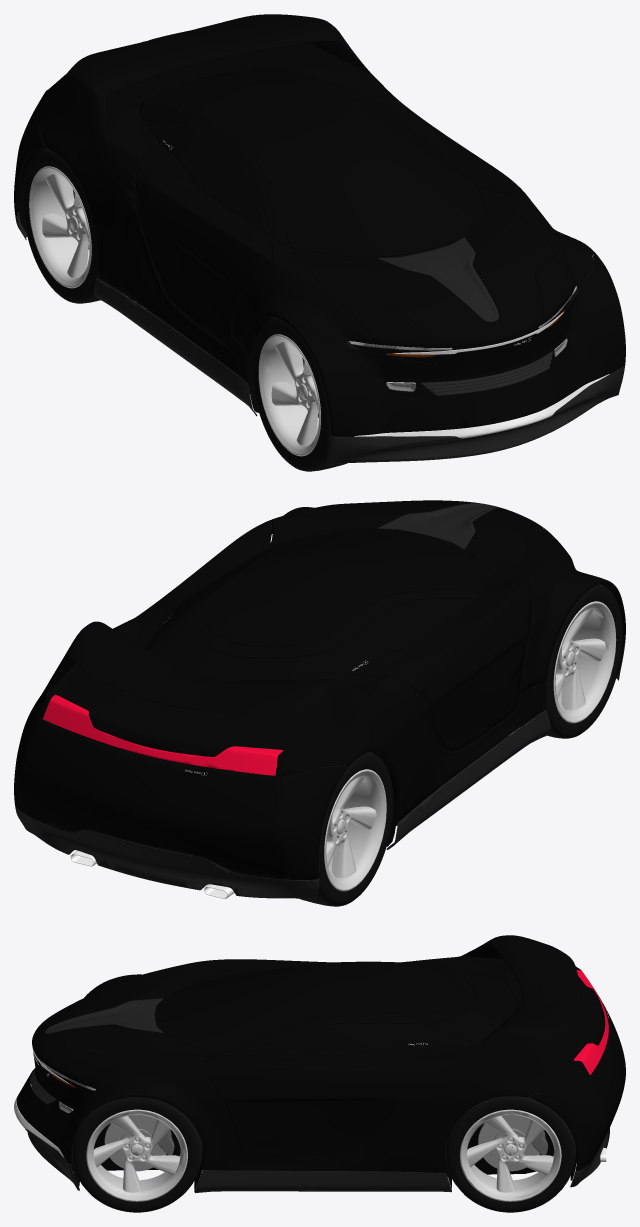
3 views of the same model, one above another, from view 1: azimuth 30°, elevation 25°; view 2: azimuth 150°, elevation 25°; view 3: azimuth 270°, elevation 25° (orthographic). The views are drawn at different scales.
Parts seen in each view (by area): view 1: Object_7, Object_11, Object_13, Object_12, Object_15, Object_22, Object_16, Object_26, Object_8, Object_10, Object_24, Object_14 (+5 smaller); view 2: Object_11, Object_7, Object_17, Object_15, Object_12, Object_21, Object_26, Object_16, Object_8, Object_2, Object_24, Object_22 (+3 smaller); view 3: Object_11, Object_7, Object_15, Object_12, Object_8, Object_16, Object_26, Object_21, Object_17, Object_24, Object_13, Object_10 (+9 smaller).
Part boxes in pixels (left/top/right/bottom): Object_7: left=140, top=68, right=483, bottom=257; Object_11: left=37, top=14, right=406, bottom=382; Object_13: left=291, top=252, right=625, bottom=436; Object_12: left=182, top=77, right=555, bottom=347; Object_15: left=135, top=95, right=529, bottom=346; Object_22: left=326, top=237, right=625, bottom=465; Object_16: left=230, top=186, right=594, bottom=353; Object_26: left=29, top=166, right=320, bottom=456; Object_8: left=22, top=150, right=569, bottom=471; Object_10: left=18, top=106, right=582, bottom=437; Object_24: left=42, top=174, right=318, bottom=445; Object_14: left=345, top=256, right=570, bottom=347; Object_11: left=37, top=615, right=546, bottom=821; Object_7: left=144, top=529, right=483, bottom=680; Object_17: left=14, top=698, right=346, bottom=879; Object_15: left=137, top=520, right=531, bottom=750; Object_12: left=182, top=500, right=555, bottom=658; Object_21: left=15, top=710, right=550, bottom=898; Object_26: left=324, top=601, right=616, bottom=891; Object_16: left=270, top=504, right=594, bottom=694; Object_8: left=38, top=541, right=622, bottom=906; Object_2: left=43, top=694, right=283, bottom=775; Object_24: left=326, top=638, right=605, bottom=877; Object_22: left=377, top=503, right=624, bottom=680; Object_11: left=203, top=935, right=605, bottom=1172; Object_7: left=158, top=962, right=516, bottom=1055; Object_15: left=198, top=959, right=431, bottom=1155; Object_12: left=32, top=961, right=475, bottom=1067; Object_8: left=73, top=1097, right=574, bottom=1212; Object_16: left=80, top=962, right=240, bottom=1145; Object_26: left=86, top=1109, right=561, bottom=1201; Object_21: left=194, top=1128, right=609, bottom=1193; Object_17: left=530, top=997, right=625, bottom=1170; Object_24: left=93, top=1119, right=553, bottom=1192; Object_13: left=16, top=976, right=128, bottom=1163; Object_10: left=33, top=984, right=601, bottom=1189.
Size of the model in its own units: 1.84 by 1.24 by 3.96.
